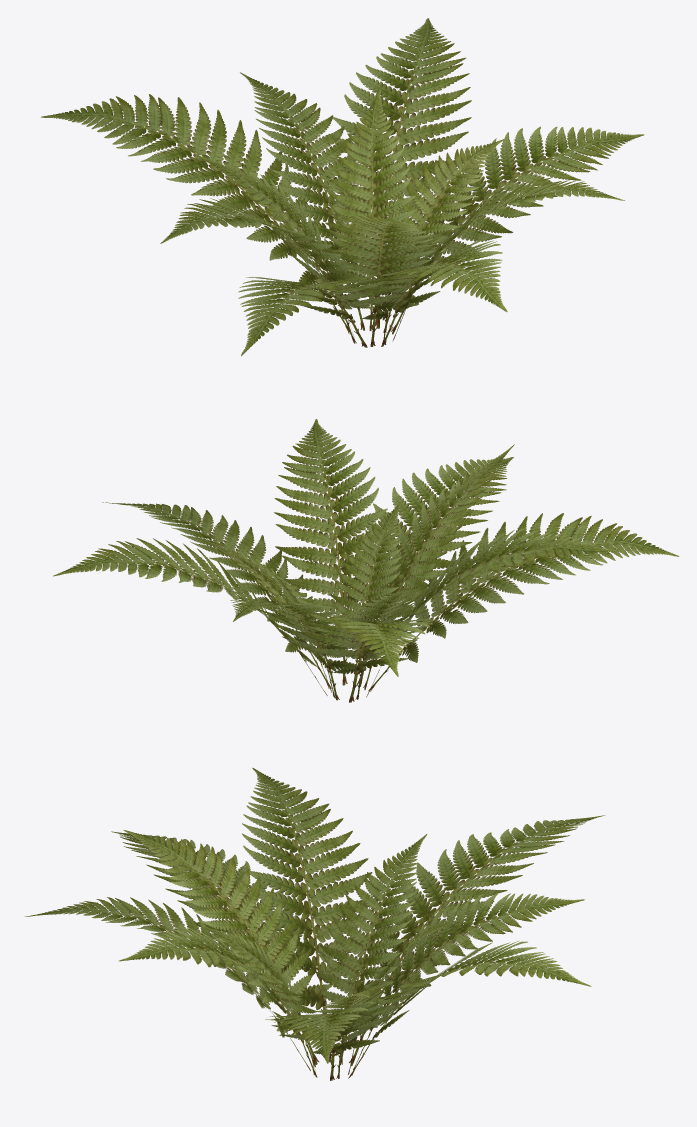
Rendered from fern_medium_a_lod0.gltf.
3 views of the same model, one above another, from view 1: azimuth 30°, elevation 25°; view 2: azimuth 150°, elevation 25°; view 3: azimuth 270°, elevation 25° (orthographic). The views are drawn at different scales.
Visible parts, largest first — view 1: fern_medium_a_LOD0; view 2: fern_medium_a_LOD0; view 3: fern_medium_a_LOD0.
Part boxes in pixels (<box>): fern_medium_a_LOD0: <box>41,18,644,356</box>; fern_medium_a_LOD0: <box>53,419,679,702</box>; fern_medium_a_LOD0: <box>25,767,604,1080</box>.
Size of the model in its own units: 1.3 by 0.5026 by 1.36.
Materials: 1 (1 with a texture image).
